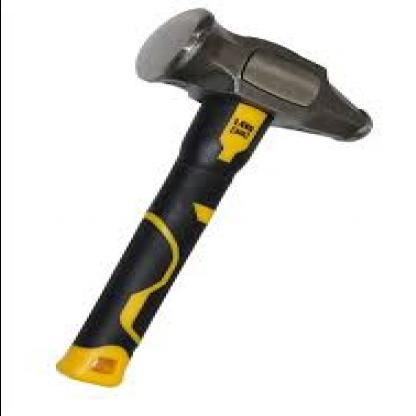Hammer: (55, 7, 374, 388)
